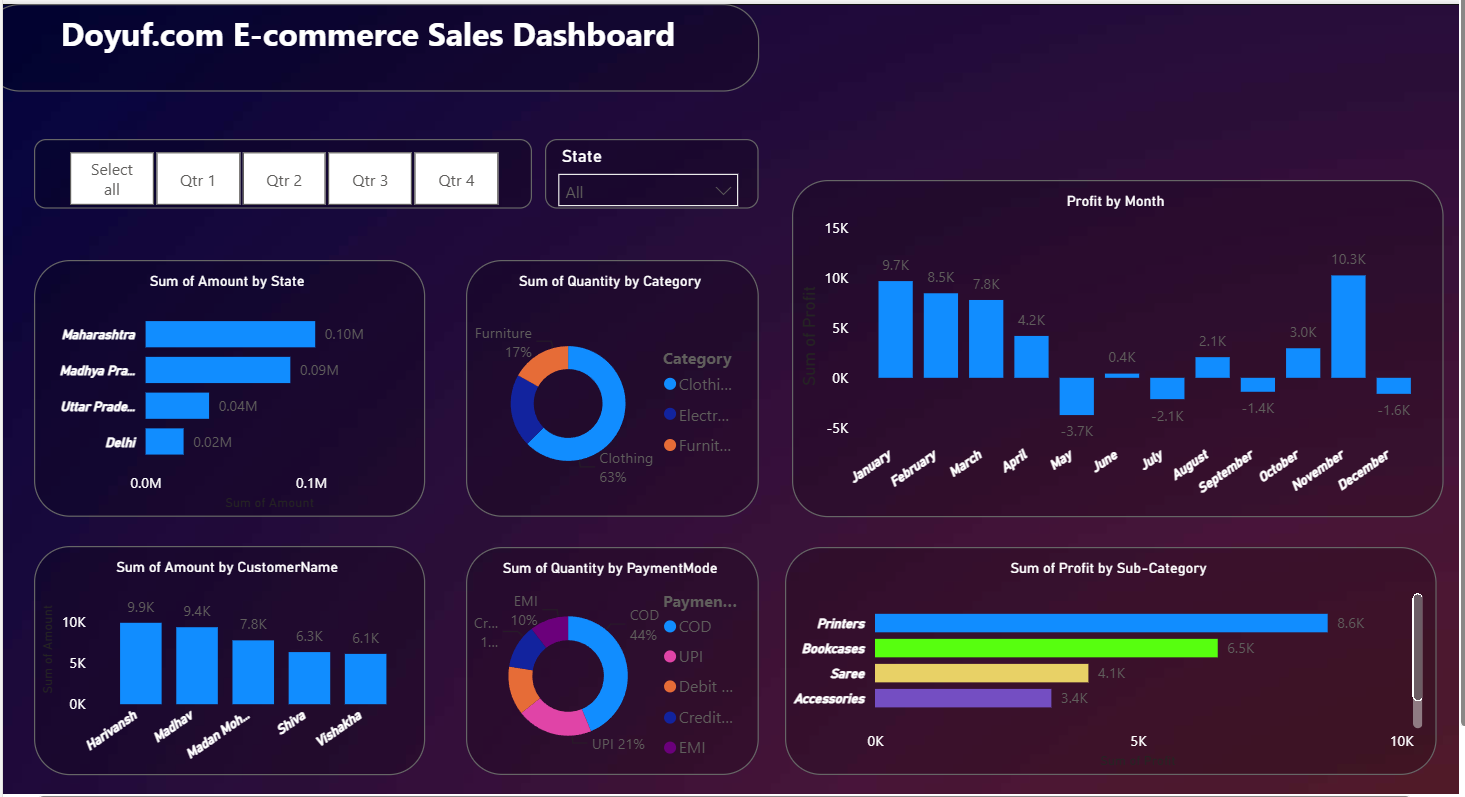

The dashboard page shown, as its layout file describes it:
{"tool":"powerbi","page":{"name":"Page 1","canvas":[1280,720],"ordinal":0},"visuals":[{"type":"textbox","box":[8.3,0,645.8,73.3],"z":0},{"type":"columnChart","title":"Profit by Month","fields":{"Category":["Orders.Order Date.Variation.Date Hierarchy.Month"],"Y":["Sum(Details.Profit)"]},"box":[681.7,146.7,543.3,280.8],"z":1000},{"type":"barChart","fields":{"Category":["Details.Sub-Category"],"Y":["Sum(Details.Profit)"]},"box":[675.8,452.5,543.3,190],"z":2000},{"type":"donutChart","fields":{"Category":["Details.Category"],"Y":["Sum(Details.Quantity)"]},"box":[410,213.3,244.2,214.2],"z":3000},{"type":"donutChart","fields":{"Category":["Details.PaymentMode"],"Y":["Sum(Details.Quantity)"]},"box":[410,452.5,244.2,190],"z":4000},{"type":"barChart","fields":{"Category":["Orders.State"],"Y":["Sum(Details.Amount)"]},"box":[50,213.3,325.8,214.2],"z":5000},{"type":"columnChart","fields":{"Category":["Orders.CustomerName"],"Y":["Sum(Details.Amount)"]},"box":[50,451.7,325.8,190.8],"z":6000},{"type":"slicer","fields":{"Values":["Orders.State"]},"box":[475.8,112.5,178.3,57.5],"z":7000},{"type":"slicer","fields":{"Values":["Orders.Order Date.Variation.Date Hierarchy.Quarter"]},"box":[50,112.5,415,57.5],"z":8000}]}

Visuals, with their boxes on the page's 1280x720 design canvas (x1, y1, x2, y2). These are canvas units, not pixel positions in the 1465x797 screenshot, which may show the page scaled, cropped or inside an application window:
textbox: [left=8, top=0, right=654, bottom=73]
"Profit by Month" columnChart: [left=682, top=147, right=1225, bottom=428]
barChart - Details.Sub-Category x Sum(Details.Profit): [left=676, top=452, right=1219, bottom=642]
donutChart - Details.Category x Sum(Details.Quantity): [left=410, top=213, right=654, bottom=428]
donutChart - Details.PaymentMode x Sum(Details.Quantity): [left=410, top=452, right=654, bottom=642]
barChart - Orders.State x Sum(Details.Amount): [left=50, top=213, right=376, bottom=428]
columnChart - Orders.CustomerName x Sum(Details.Amount): [left=50, top=452, right=376, bottom=642]
slicer - Orders.State: [left=476, top=112, right=654, bottom=170]
slicer - Orders.Order Date.Variation.Date Hierarchy.Quarter: [left=50, top=112, right=465, bottom=170]
